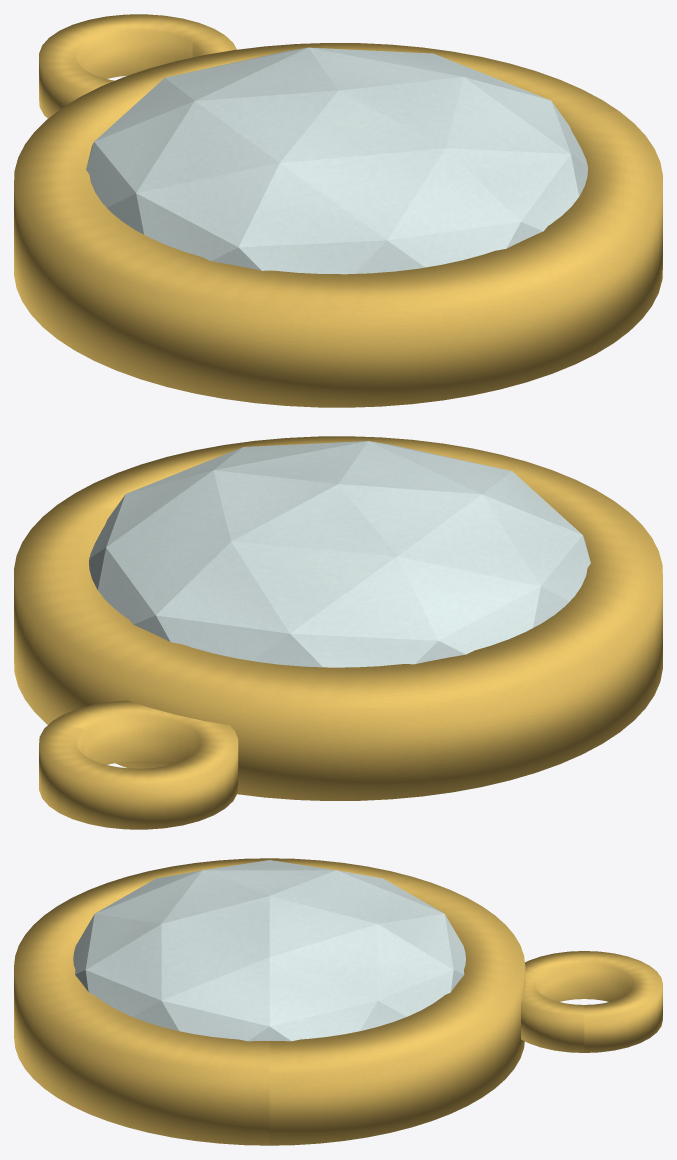
The model's file is pendant.glb.
3 renders of one model, top to bottom at view 1: azimuth 30°, elevation 25°; view 2: azimuth 150°, elevation 25°; view 3: azimuth 270°, elevation 25°, orthographic. The views are drawn at different scales.
Visible parts, largest first — view 1: gold pendant bezel, quartz cabochon, pendant loop; view 2: gold pendant bezel, quartz cabochon, pendant loop; view 3: gold pendant bezel, quartz cabochon, pendant loop.
Boxes of the visible parts, x1,y1,x2,y2 form: gold pendant bezel: [14, 43, 662, 407]; quartz cabochon: [86, 47, 587, 274]; pendant loop: [39, 14, 236, 118]; gold pendant bezel: [14, 436, 662, 800]; quartz cabochon: [89, 441, 590, 667]; pendant loop: [39, 700, 238, 829]; gold pendant bezel: [14, 858, 525, 1145]; quartz cabochon: [73, 860, 465, 1041]; pendant loop: [521, 951, 662, 1052].
Size of the model in its own units: 0.052 by 0.0198 by 0.066.
2 materials, 2 textured.
